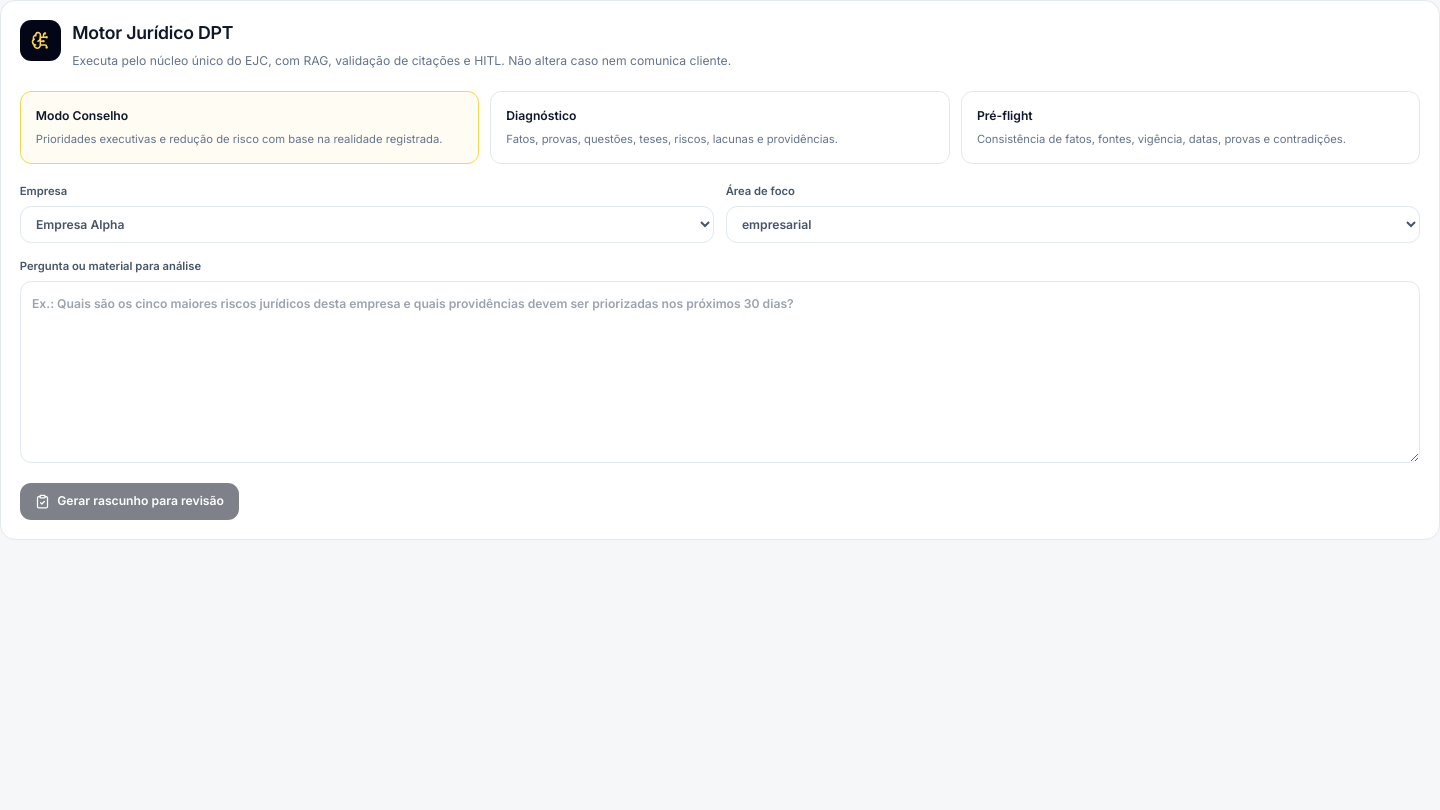
Scenario: o painel do resultado exibe a empresa e a área analisadas
Replace the text in the text box with placeholder "Ex.:" with "qual o principal risco desta empresa?" at coordinates (720, 372), box [20,281,1420,463]
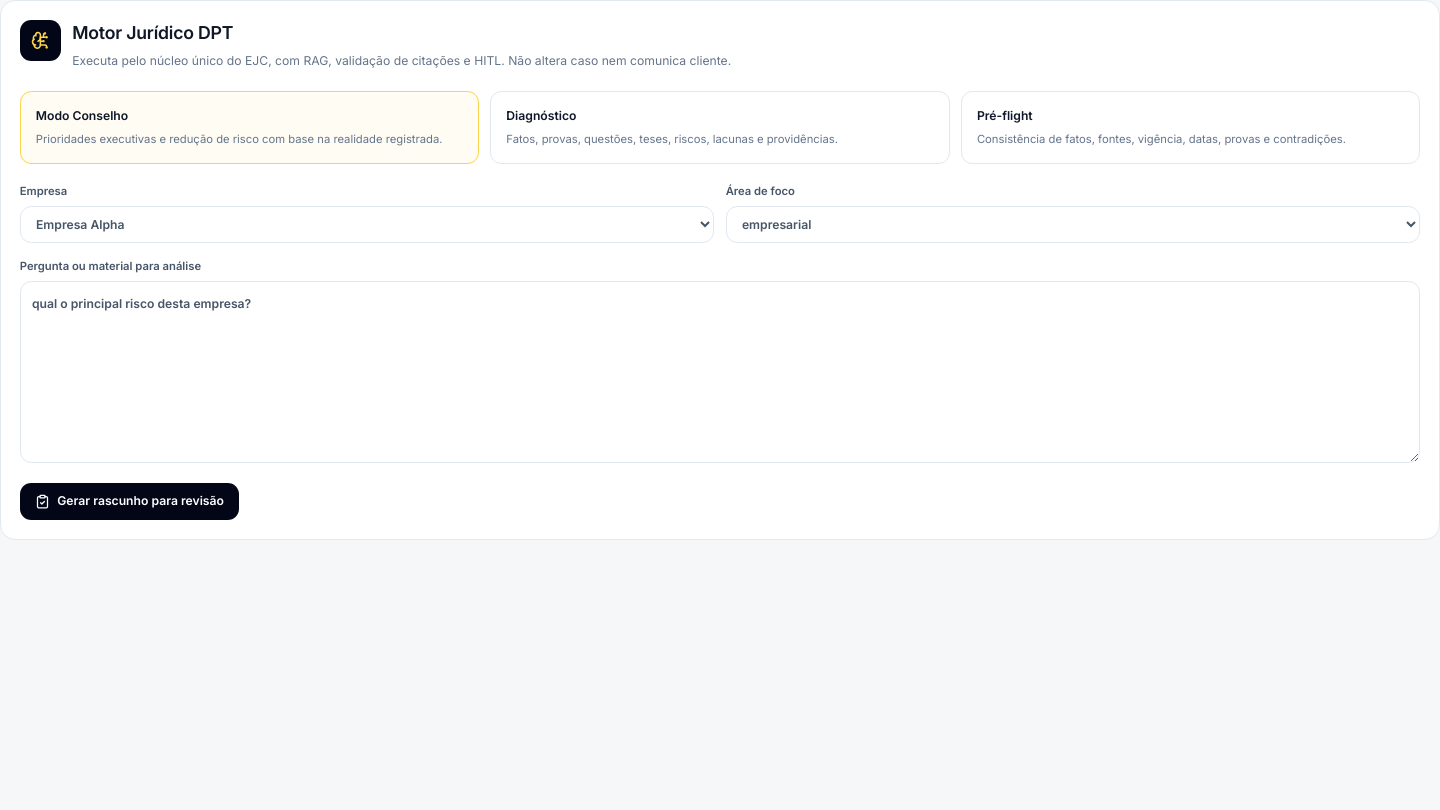
Click the button "Gerar rascunho para revisão".
click(129, 501)  # box [20,483,239,520]
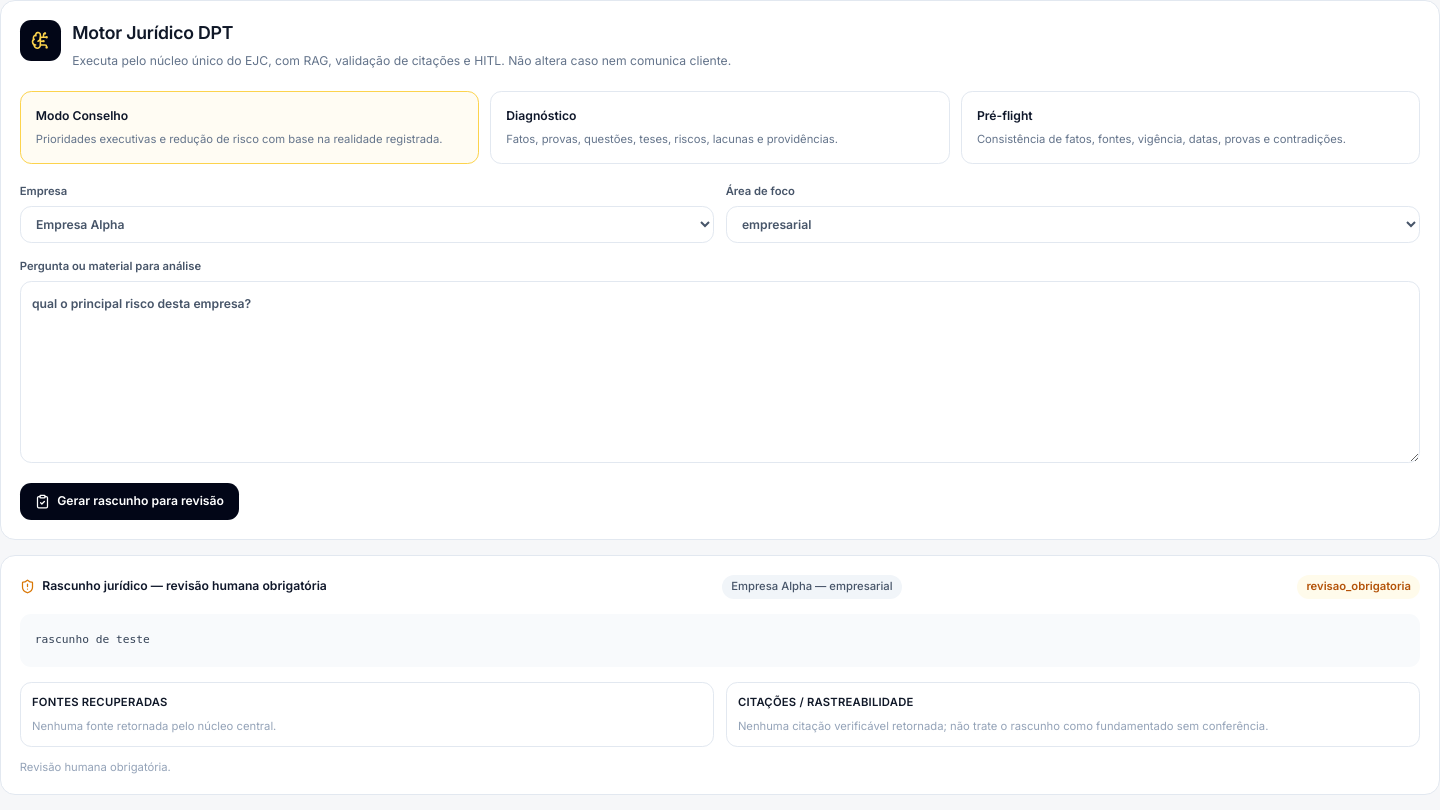
Check: the text "Empresa Alpha —" is shown, box [0,555,1439,795]
Check: the text "rascunho de teste" is shown, box [20,614,1420,666]
